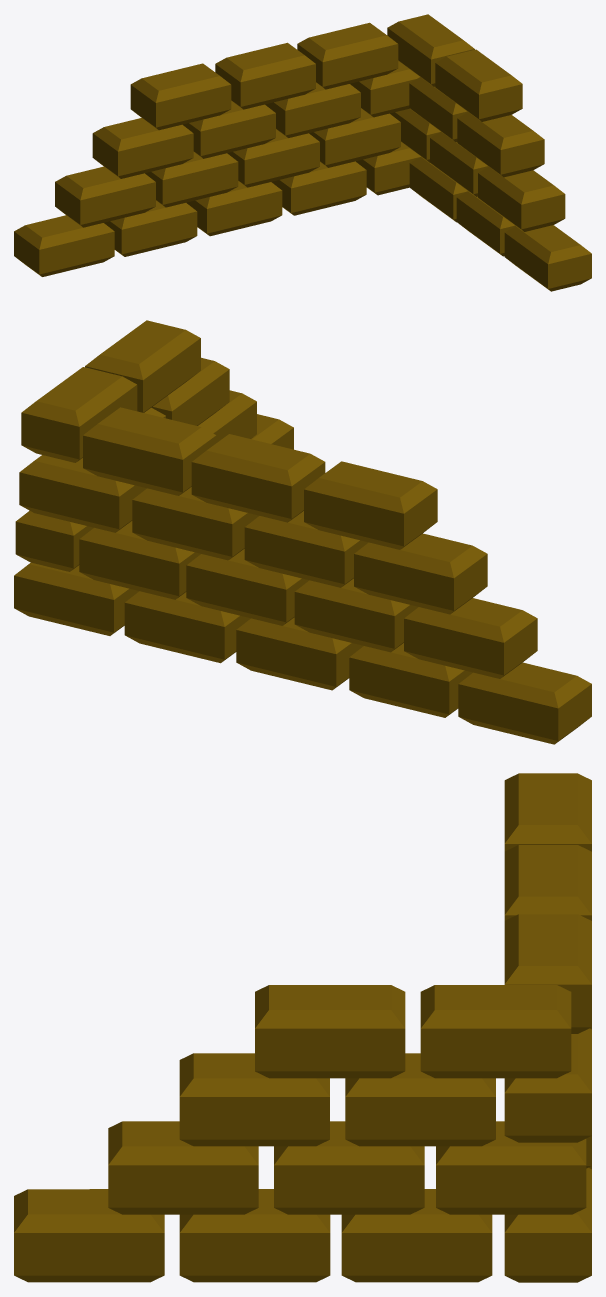
Rendered from SandbagLLarge.fbx.
The picture shows the model from 3 angles, top to bottom: view 1: azimuth 30°, elevation 25°; view 2: azimuth 150°, elevation 25°; view 3: azimuth 270°, elevation 25°; orthographic projection. The views are drawn at different scales.
Visible parts, largest first — view 1: ConcreteBarricadeShort.001; view 2: ConcreteBarricadeShort.001; view 3: ConcreteBarricadeShort.001.
Boxes of the visible parts, x1=… form: ConcreteBarricadeShort.001: x1=14, y1=14, x2=591, y2=291; ConcreteBarricadeShort.001: x1=14, y1=320, x2=591, y2=744; ConcreteBarricadeShort.001: x1=14, y1=773, x2=591, y2=1282.
Bounding box in the file's own units: 1090 × 400 × 768.
